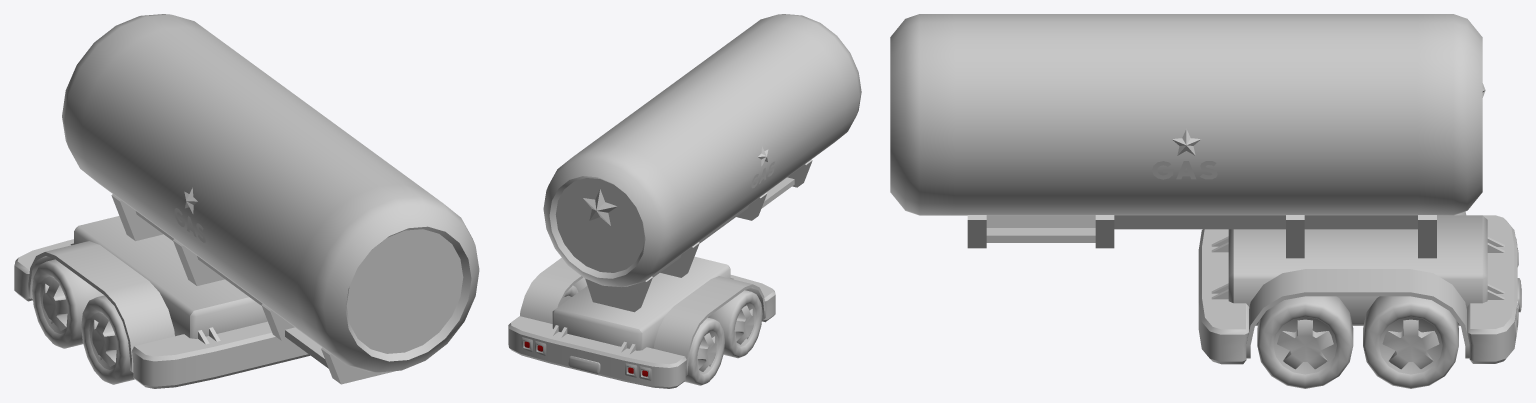
File: TP_Cistern_01C.fbx
3 views of the same model, side by side, from view 1: azimuth 30°, elevation 25°; view 2: azimuth 150°, elevation 25°; view 3: azimuth 270°, elevation 25° (orthographic). The views are drawn at different scales.
Visible parts, largest first — view 1: TP_Cistern_01C_Body, TP_Cistern_01C_Wheel_R.R, TP_Cistern_01C_Wheel_F.R; view 2: TP_Cistern_01C_Body, TP_Cistern_01C_Wheel_F.R, TP_Cistern_01C_Wheel_R.R; view 3: TP_Cistern_01C_Body, TP_Cistern_01C_Wheel_F.L, TP_Cistern_01C_Wheel_R.L.
Part boxes in pixels (<box>): TP_Cistern_01C_Body: <box>14,14,479,388</box>; TP_Cistern_01C_Wheel_R.R: <box>32,259,103,348</box>; TP_Cistern_01C_Wheel_F.R: <box>81,295,134,384</box>; TP_Cistern_01C_Body: <box>508,14,861,388</box>; TP_Cistern_01C_Wheel_F.R: <box>707,290,762,358</box>; TP_Cistern_01C_Wheel_R.R: <box>684,317,724,385</box>; TP_Cistern_01C_Body: <box>890,14,1521,364</box>; TP_Cistern_01C_Wheel_F.L: <box>1257,296,1353,388</box>; TP_Cistern_01C_Wheel_R.L: <box>1363,296,1458,388</box>.
Size of the model in its own units: 3.25 by 3.87 by 7.17.
